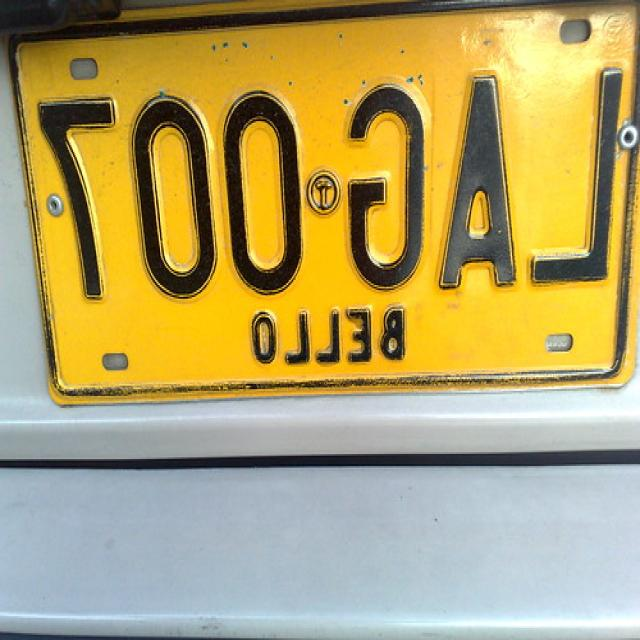placas: (24, 44, 627, 315)
